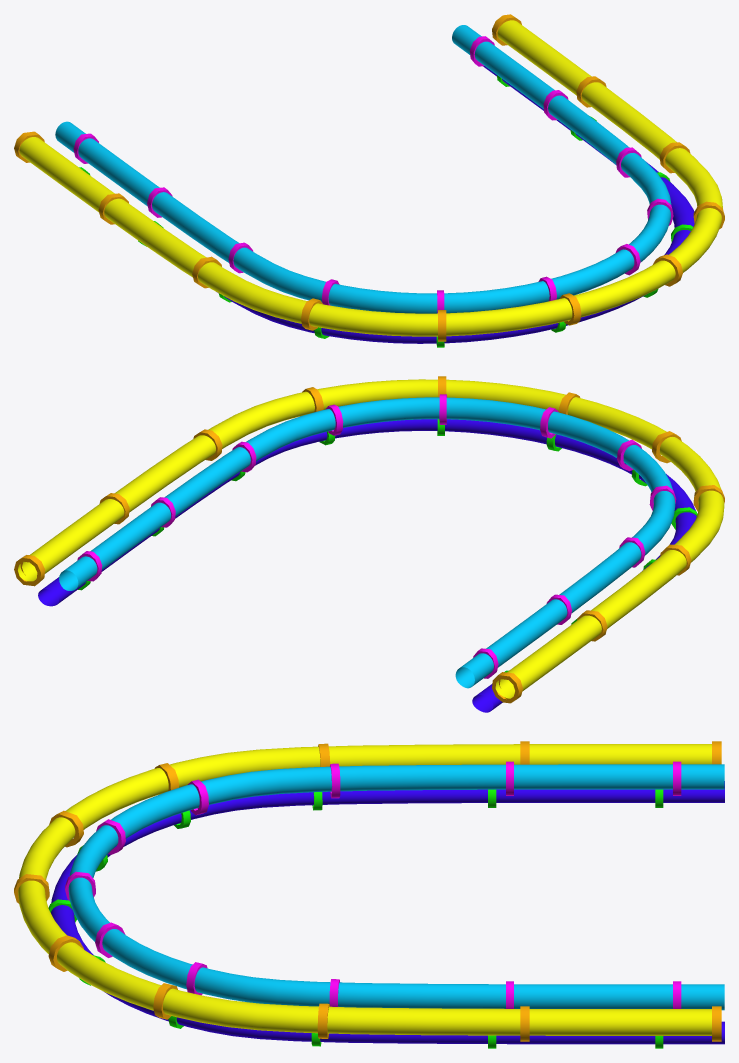
Rendered from Tubos.FBX.
The picture shows the model from 3 angles, top to bottom: view 1: azimuth 30°, elevation 25°; view 2: azimuth 150°, elevation 25°; view 3: azimuth 270°, elevation 25°; orthographic projection. The views are drawn at different scales.
Visible parts, largest first — view 1: TuboSuelo, TuboSuelo001, TuboSuelo002; view 2: TuboSuelo, TuboSuelo001, TuboSuelo002; view 3: TuboSuelo, TuboSuelo001, TuboSuelo002.
Boxes of the visible parts, bbox=[...] form: TuboSuelo: bbox=[19, 20, 722, 336]; TuboSuelo001: bbox=[55, 25, 671, 313]; TuboSuelo002: bbox=[217, 66, 694, 343]; TuboSuelo: bbox=[18, 379, 724, 698]; TuboSuelo001: bbox=[59, 397, 675, 688]; TuboSuelo002: bbox=[38, 419, 696, 712]; TuboSuelo: bbox=[18, 744, 711, 1035]; TuboSuelo001: bbox=[68, 764, 724, 1010]; TuboSuelo002: bbox=[51, 781, 724, 1044].
Size of the model in its own units: 6.04 by 0.5394 by 6.48.
